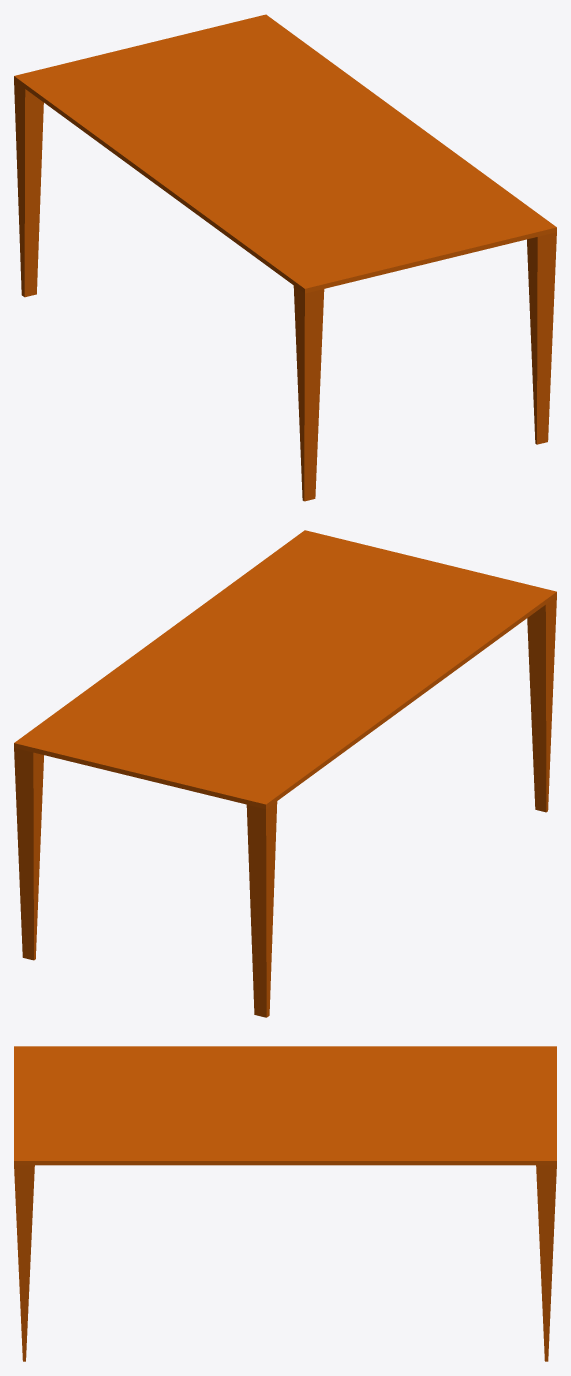
Rendered from furniture_table.fbx.
The picture shows the model from 3 angles, top to bottom: view 1: azimuth 30°, elevation 25°; view 2: azimuth 150°, elevation 25°; view 3: azimuth 270°, elevation 25°; orthographic projection. The views are drawn at different scales.
Visible parts, largest first — view 1: Cube; view 2: Cube; view 3: Cube.
Part boxes in pixels (bbox=[...]): Cube: bbox=[14, 14, 556, 501]; Cube: bbox=[14, 530, 556, 1017]; Cube: bbox=[14, 1046, 556, 1361].
Size of the model in its own units: 1761 by 1449 by 3519.
